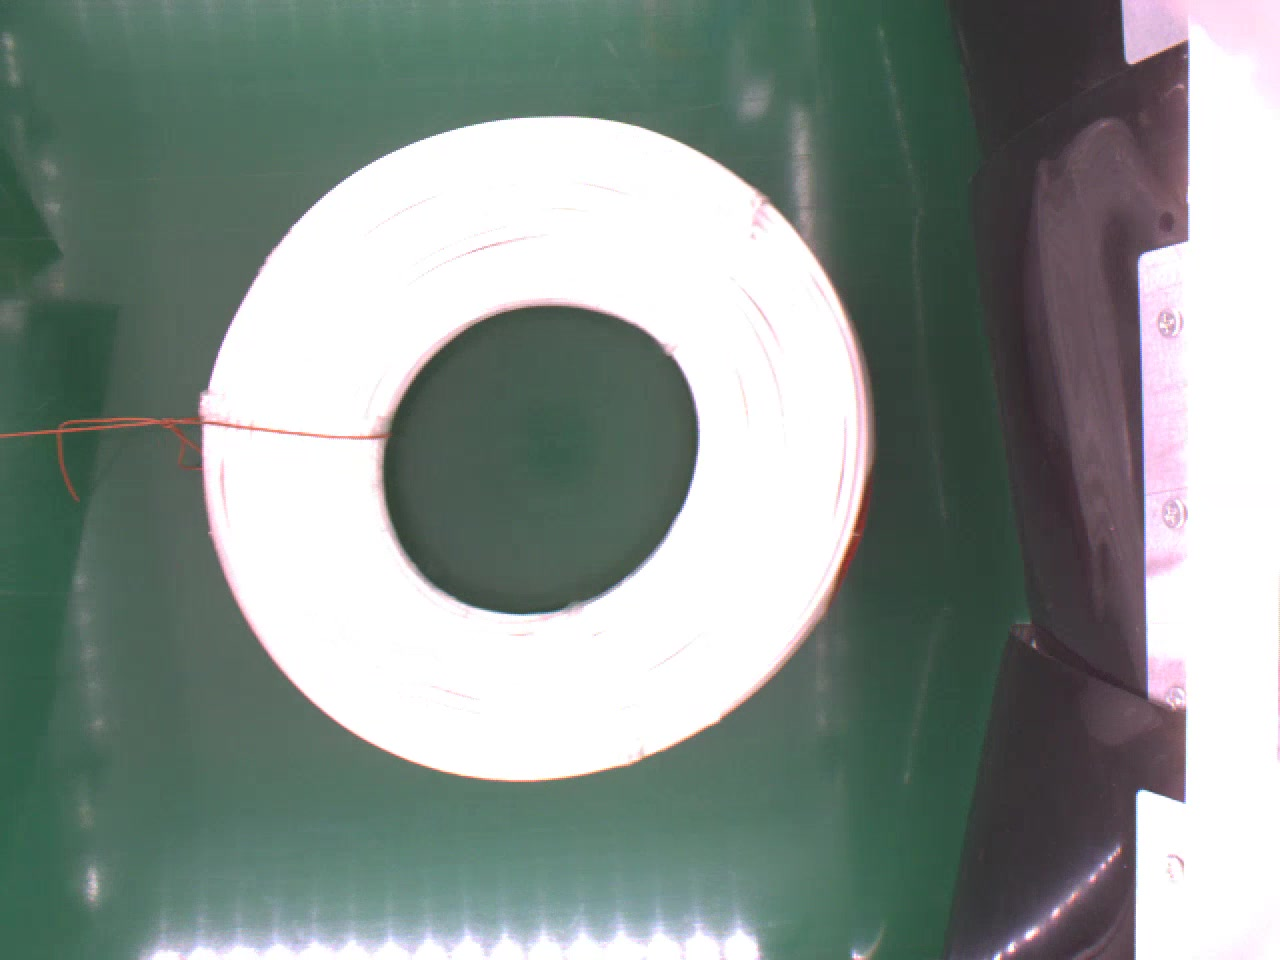white: (196, 107, 877, 779)
